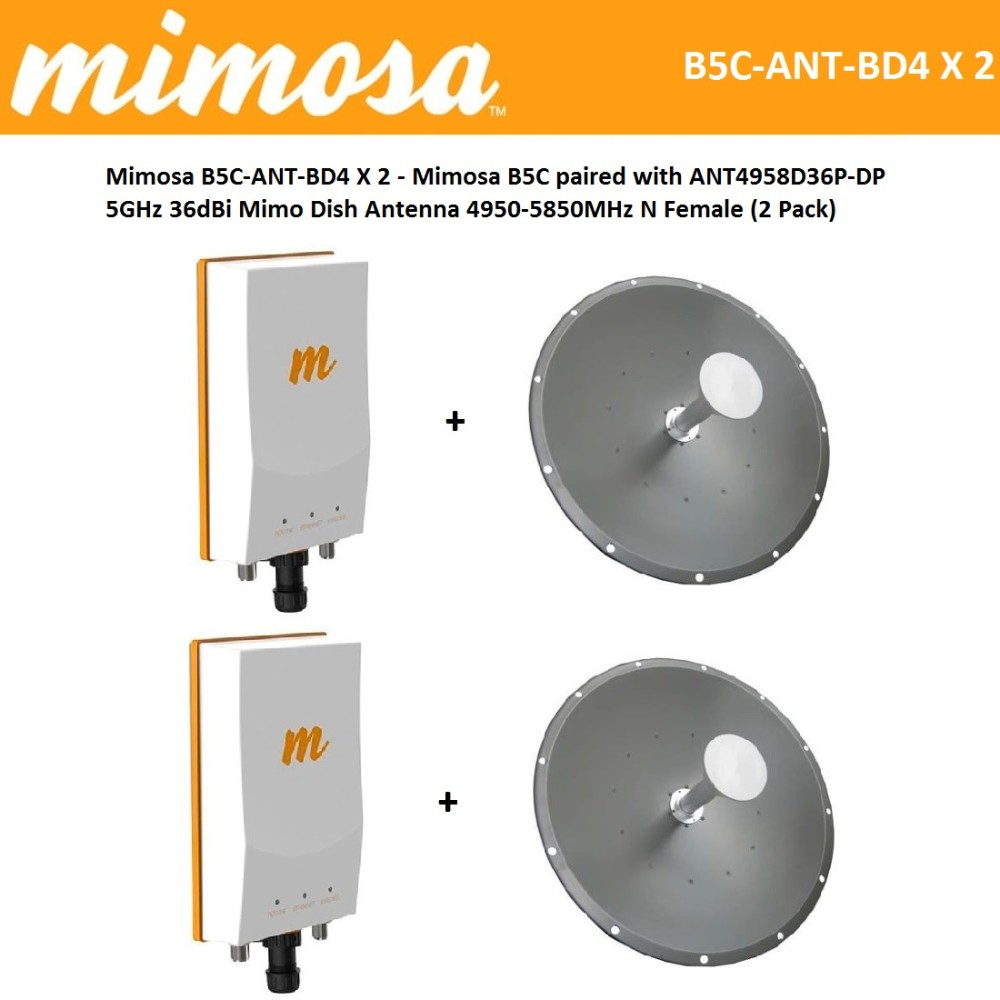ba: (516, 257, 831, 628)
